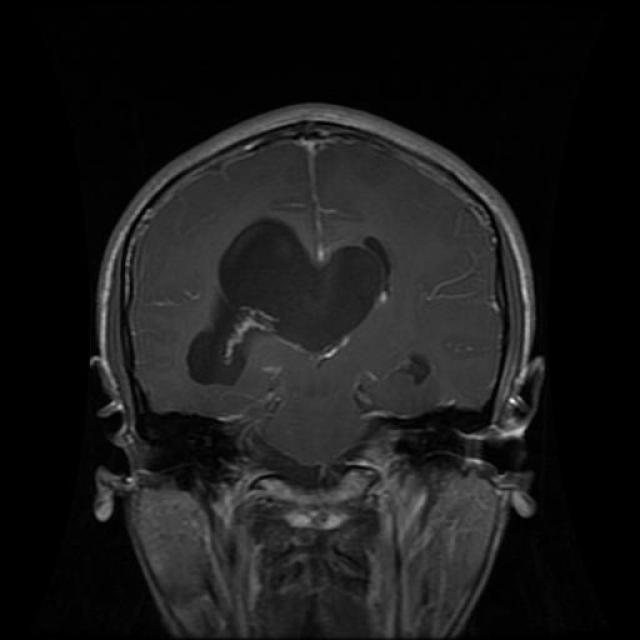glioma: (182, 216, 392, 392)
